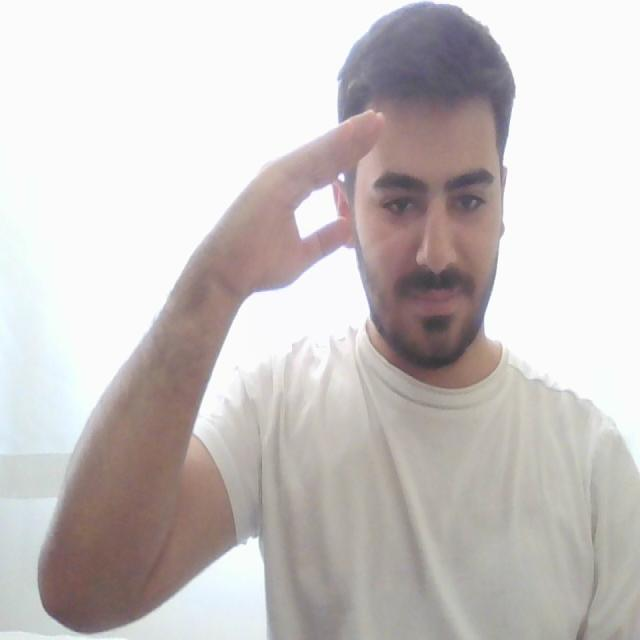Merhaba: (205, 74, 406, 332)
